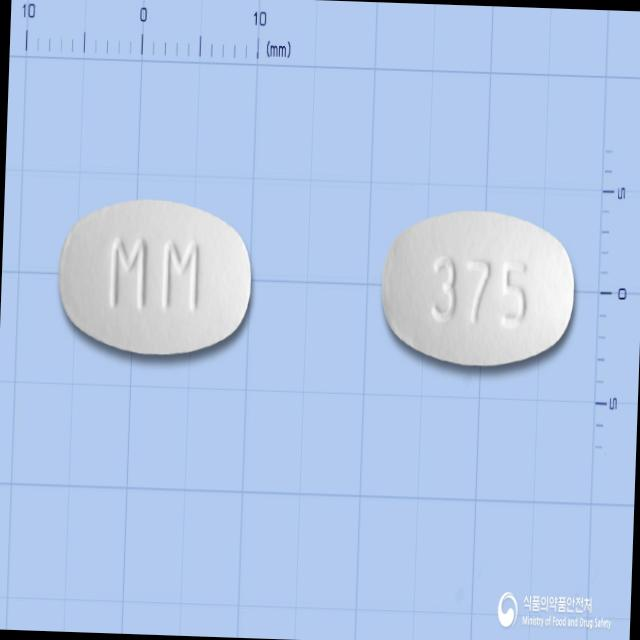Amoclan - Myungmoon: (54, 192, 257, 362), (379, 204, 579, 367)
